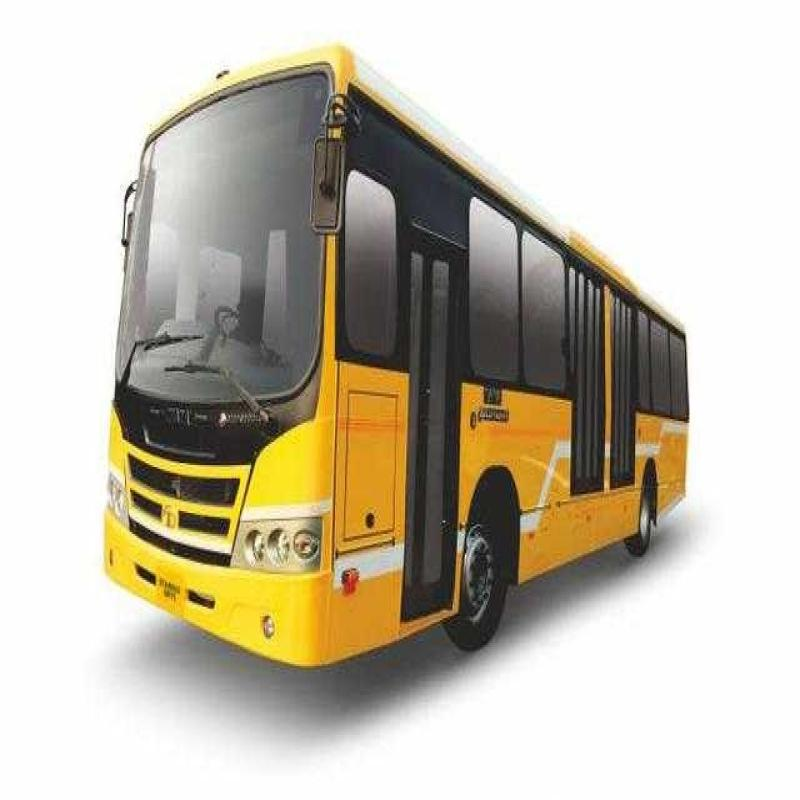bus: (98, 37, 720, 694)
